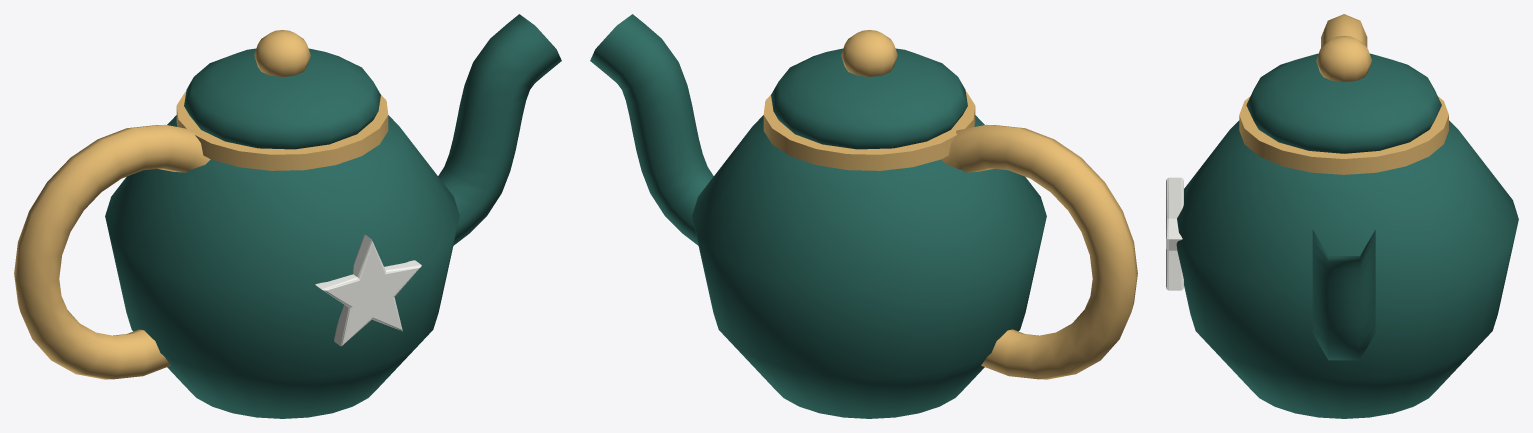
Rendered from christmas-storybook-evergreen-teapot-39e2dc67__18761.glb.
The picture shows the model from 3 angles, left to right: view 1: azimuth 30°, elevation 25°; view 2: azimuth 150°, elevation 25°; view 3: azimuth 270°, elevation 25°; orthographic projection.
Parts seen in each view (by area): view 1: pine, brass, cream; view 2: pine, brass; view 3: pine, brass, cream.
Part boxes in pixels (x1=…): pine: x1=105, y1=14, x2=561, y2=418; brass: x1=14, y1=30, x2=388, y2=379; cream: x1=315, y1=234, x2=421, y2=346; pine: x1=590, y1=14, x2=1046, y2=418; brass: x1=763, y1=30, x2=1137, y2=379; pine: x1=1176, y1=53, x2=1518, y2=418; brass: x1=1239, y1=14, x2=1448, y2=174; cream: x1=1166, y1=177, x2=1183, y2=290.
Bounding box in the file's own units: 0.8746 × 0.535 × 0.5048.
